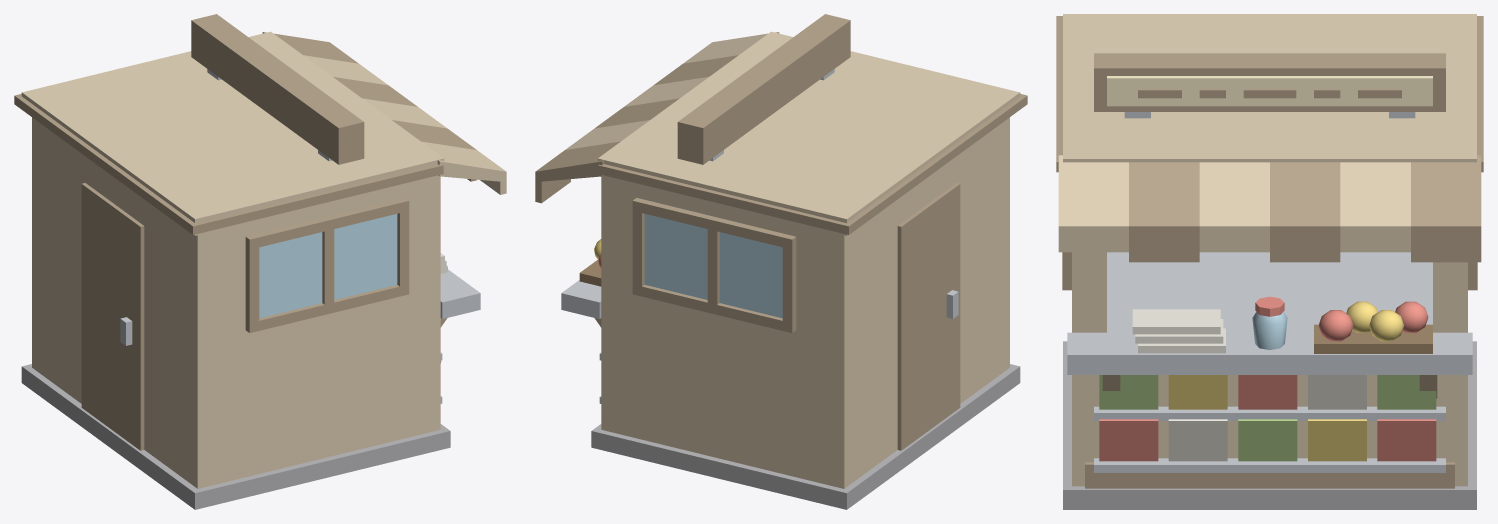
File: building.kiosk.glb
The picture shows the model from 3 angles, left to right: view 1: azimuth 30°, elevation 25°; view 2: azimuth 150°, elevation 25°; view 3: azimuth 270°, elevation 25°; orthographic projection. The views are drawn at different scales.
Visible parts, largest first — view 1: Paint, PaintDark, Stone, Glass, Metal; view 2: Paint, PaintDark, Stone, Glass, Metal; view 3: Paint, PaintDark, Metal, Stone, FruitRed, Bone, Light, FruitGreen, FruitGold, Wood, Glass.
Boxes of the visible parts, x1=… form: Paint: x1=21, y1=31, x2=506, y2=488; PaintDark: x1=14, y1=14, x2=476, y2=450; Stone: x1=21, y1=364, x2=450, y2=509; Glass: x1=259, y1=214, x2=397, y2=318; Metal: x1=120, y1=69, x2=480, y2=403; Paint: x1=565, y1=31, x2=1020, y2=488; PaintDark: x1=535, y1=14, x2=1027, y2=450; Stone: x1=591, y1=364, x2=1020, y2=509; Glass: x1=644, y1=214, x2=782, y2=318; Metal: x1=561, y1=69, x2=958, y2=403; Paint: x1=1058, y1=14, x2=1476, y2=486; PaintDark: x1=1056, y1=16, x2=1483, y2=488; Metal: x1=1067, y1=112, x2=1472, y2=472; Stone: x1=1063, y1=341, x2=1476, y2=509; FruitRed: x1=1099, y1=296, x2=1436, y2=461; Bone: x1=1132, y1=309, x2=1366, y2=461; Light: x1=1107, y1=76, x2=1432, y2=106; FruitGreen: x1=1099, y1=375, x2=1436, y2=461; FruitGold: x1=1168, y1=301, x2=1404, y2=461; Wood: x1=1314, y1=324, x2=1432, y2=353; Glass: x1=1252, y1=312, x2=1287, y2=349.
Bounding box in the file's own units: 0.985 × 1 × 0.97.
